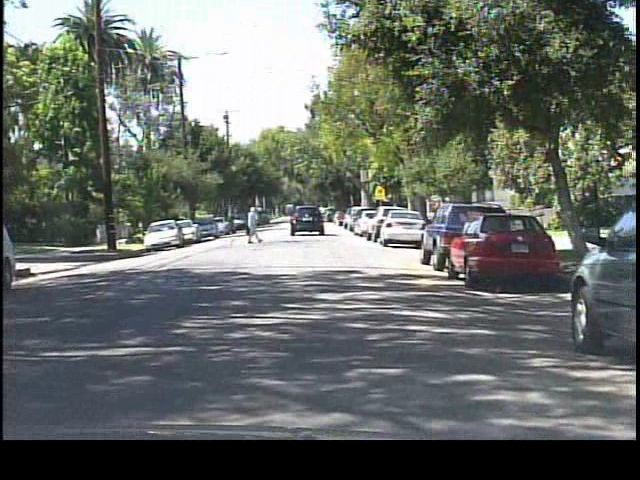person: (241, 203, 265, 247)
